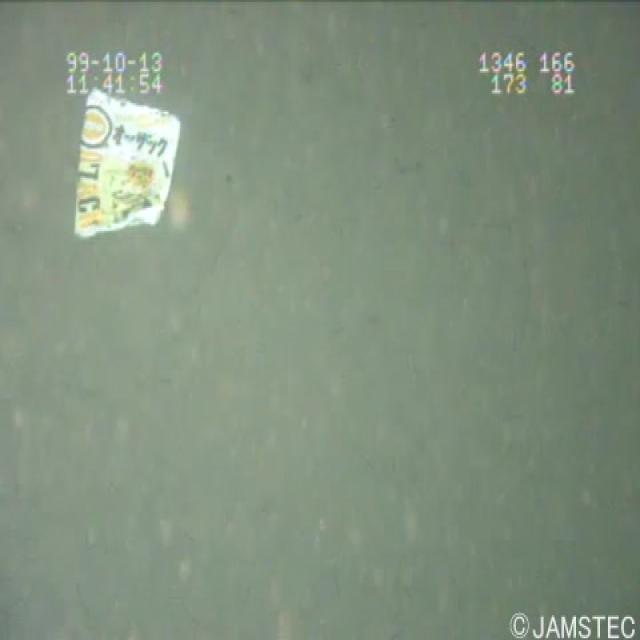plastic: (67, 82, 185, 249)
